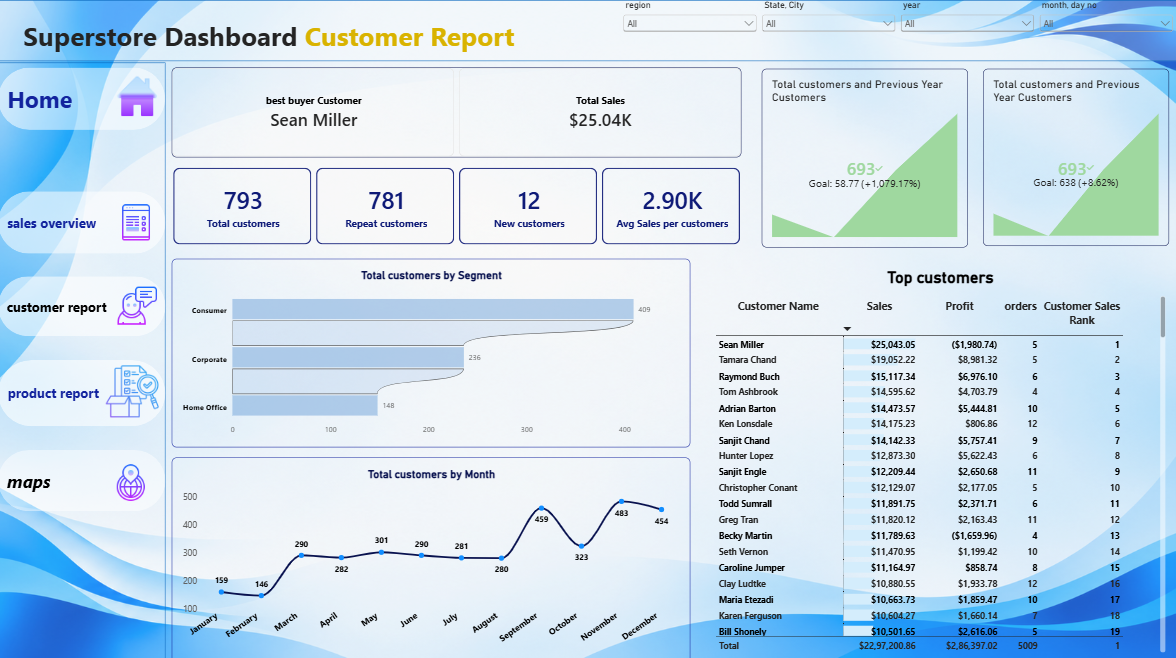

This screenshot's page, from the dashboard's own definition file:
{"tool":"powerbi","page":{"name":"customer report","canvas":[1920,1080],"ordinal":3},"visuals":[{"type":"group","id":"g1","title":"Group 2","box":[0,0,1920.4,109.7],"z":0,"group":"g2"},{"type":"shape","box":[0,101.8,272.9,977.5],"z":0,"group":"g3"},{"type":"barChart","fields":{"Category":["Orders.Segment"],"Y":["mesure table.Total customers"]},"box":[283.1,421.6,845.1,307.5],"z":0},{"type":"slicer","fields":{"Values":["People.region"]},"box":[1015.1,0,226.7,98.9],"z":1000,"group":"g2"},{"type":"shape","box":[0,586.8,272.9,108],"z":1000,"group":"g3"},{"type":"shape","box":[0,0,1920.4,99.7],"z":2000,"group":"g1"},{"type":"slicer","fields":{"Values":["date.month","date.day no"]},"box":[1693.3,0,226.7,98.9],"z":2000,"group":"g2"},{"type":"cardVisual","fields":{"Data":["mesure table.Total profit","mesure table.Repeat customers","mesure table.New customers","mesure table.Avg Sales per customers"]},"box":[284,271.7,928.3,129.7],"z":2000},{"type":"shape","box":[0,311.9,272.9,101.9],"z":2000,"group":"g3"},{"type":"slicer","fields":{"Values":["Orders.State","Orders.City"]},"box":[1240.9,0,226.7,98.9],"z":3000,"group":"g2"},{"type":"cardVisual","fields":{"Data":["Min(Orders.Customer Name)","mesure table.Total Sales"]},"box":[284,109.1,928.3,146.1],"z":3000},{"type":"shape","box":[0,733.5,272.9,99.9],"z":3000,"group":"g3"},{"type":"group","id":"g2","title":"Group 3","box":[0,0,1920.4,109.7],"z":4000},{"type":"slicer","fields":{"Values":["date.year"]},"box":[1466.8,0,226.7,98.9],"z":4000,"group":"g2"},{"type":"shape","box":[0,450.3,272.9,97.8],"z":4000,"group":"g3"},{"type":"kpi","title":"Total customers and Previous Year Customers ","fields":{"Goal":["mesure table.Previous Year Customers"],"Indicator":["mesure table.Total customers"],"TrendLine":["date.year"]},"box":[1604.8,112,303.4,289.2],"z":5000},{"type":"image","box":[173.3,595,91,86],"z":5000,"group":"g3"},{"type":"image","box":[181.9,462.5,91,73.4],"z":6000,"group":"g3"},{"type":"lineChart","fields":{"Category":["date.Date.Variation.Date Hierarchy.Month"],"Y":["mesure table.Total customers"]},"box":[283.1,745.4,845.1,334],"z":6000},{"type":"tableEx","title":"Top  customers","fields":{"Values":["Orders.Customer Name","mesure table.Total Sales","mesure table.Total Profit","mesure table.total orders","mesure table.Customer Sales Rank"]},"box":[1152.7,421.6,765.7,657.8],"z":7000},{"type":"image","box":[172.7,748.6,86.3,73.3],"z":7000,"group":"g3"},{"type":"shape","box":[0,109.9,272.5,101.8],"z":8000,"group":"g3"},{"type":"kpi","title":"Total customers and Previous Year Customers ","fields":{"Goal":["mesure table.Avg Price"],"Indicator":["mesure table.Total customers"],"TrendLine":["date.year"]},"box":[1244.3,112,336,291.2],"z":8000},{"type":"group","id":"g3","title":"Group 1","box":[0,101.8,272.9,977.5],"z":8001},{"type":"image","box":[181.2,120.1,91,73.4],"z":9000,"group":"g3"},{"type":"image","box":[185.5,325.3,78.9,73.2],"z":10000,"group":"g3"},{"type":"textbox","box":[10,10,862.6,99.7],"z":12000,"group":"g1"}]}

Visuals, with their boxes in screenshot pixels (x1, y1, x2, y2), scaled from the page's 1920x1080 canvas onto the 1176x658 screenshot:
"Group 2" group: 0/0/1175/67
shape: 0/62/167/657
barChart - Orders.Segment x mesure table.Total customers: 173/257/691/444
slicer - People.region: 622/0/761/60
shape: 0/358/167/423
shape: 0/0/1175/61
slicer - date.month x date.day no: 1037/0/1175/60
cardVisual - mesure table.Total profit x mesure table.Repeat customers: 174/166/743/245
shape: 0/190/167/252
slicer - Orders.State x Orders.City: 760/0/899/60
cardVisual - Min(Orders.Customer Name) x mesure table.Total Sales: 174/66/743/155
shape: 0/447/167/508
"Group 3" group: 0/0/1175/67
slicer - date.year: 898/0/1037/60
shape: 0/274/167/334
"Total customers and Previous Year Customers " kpi: 983/68/1169/244
image: 106/363/162/415
image: 111/282/167/327
lineChart - date.Date.Variation.Date Hierarchy.Month x mesure table.Total customers: 173/454/691/657
"Top  customers" tableEx: 706/257/1175/657
image: 106/456/159/501
shape: 0/67/167/129
"Total customers and Previous Year Customers " kpi: 762/68/968/246
"Group 1" group: 0/62/167/657
image: 111/73/167/118
image: 114/198/162/243
textbox: 6/6/534/67
